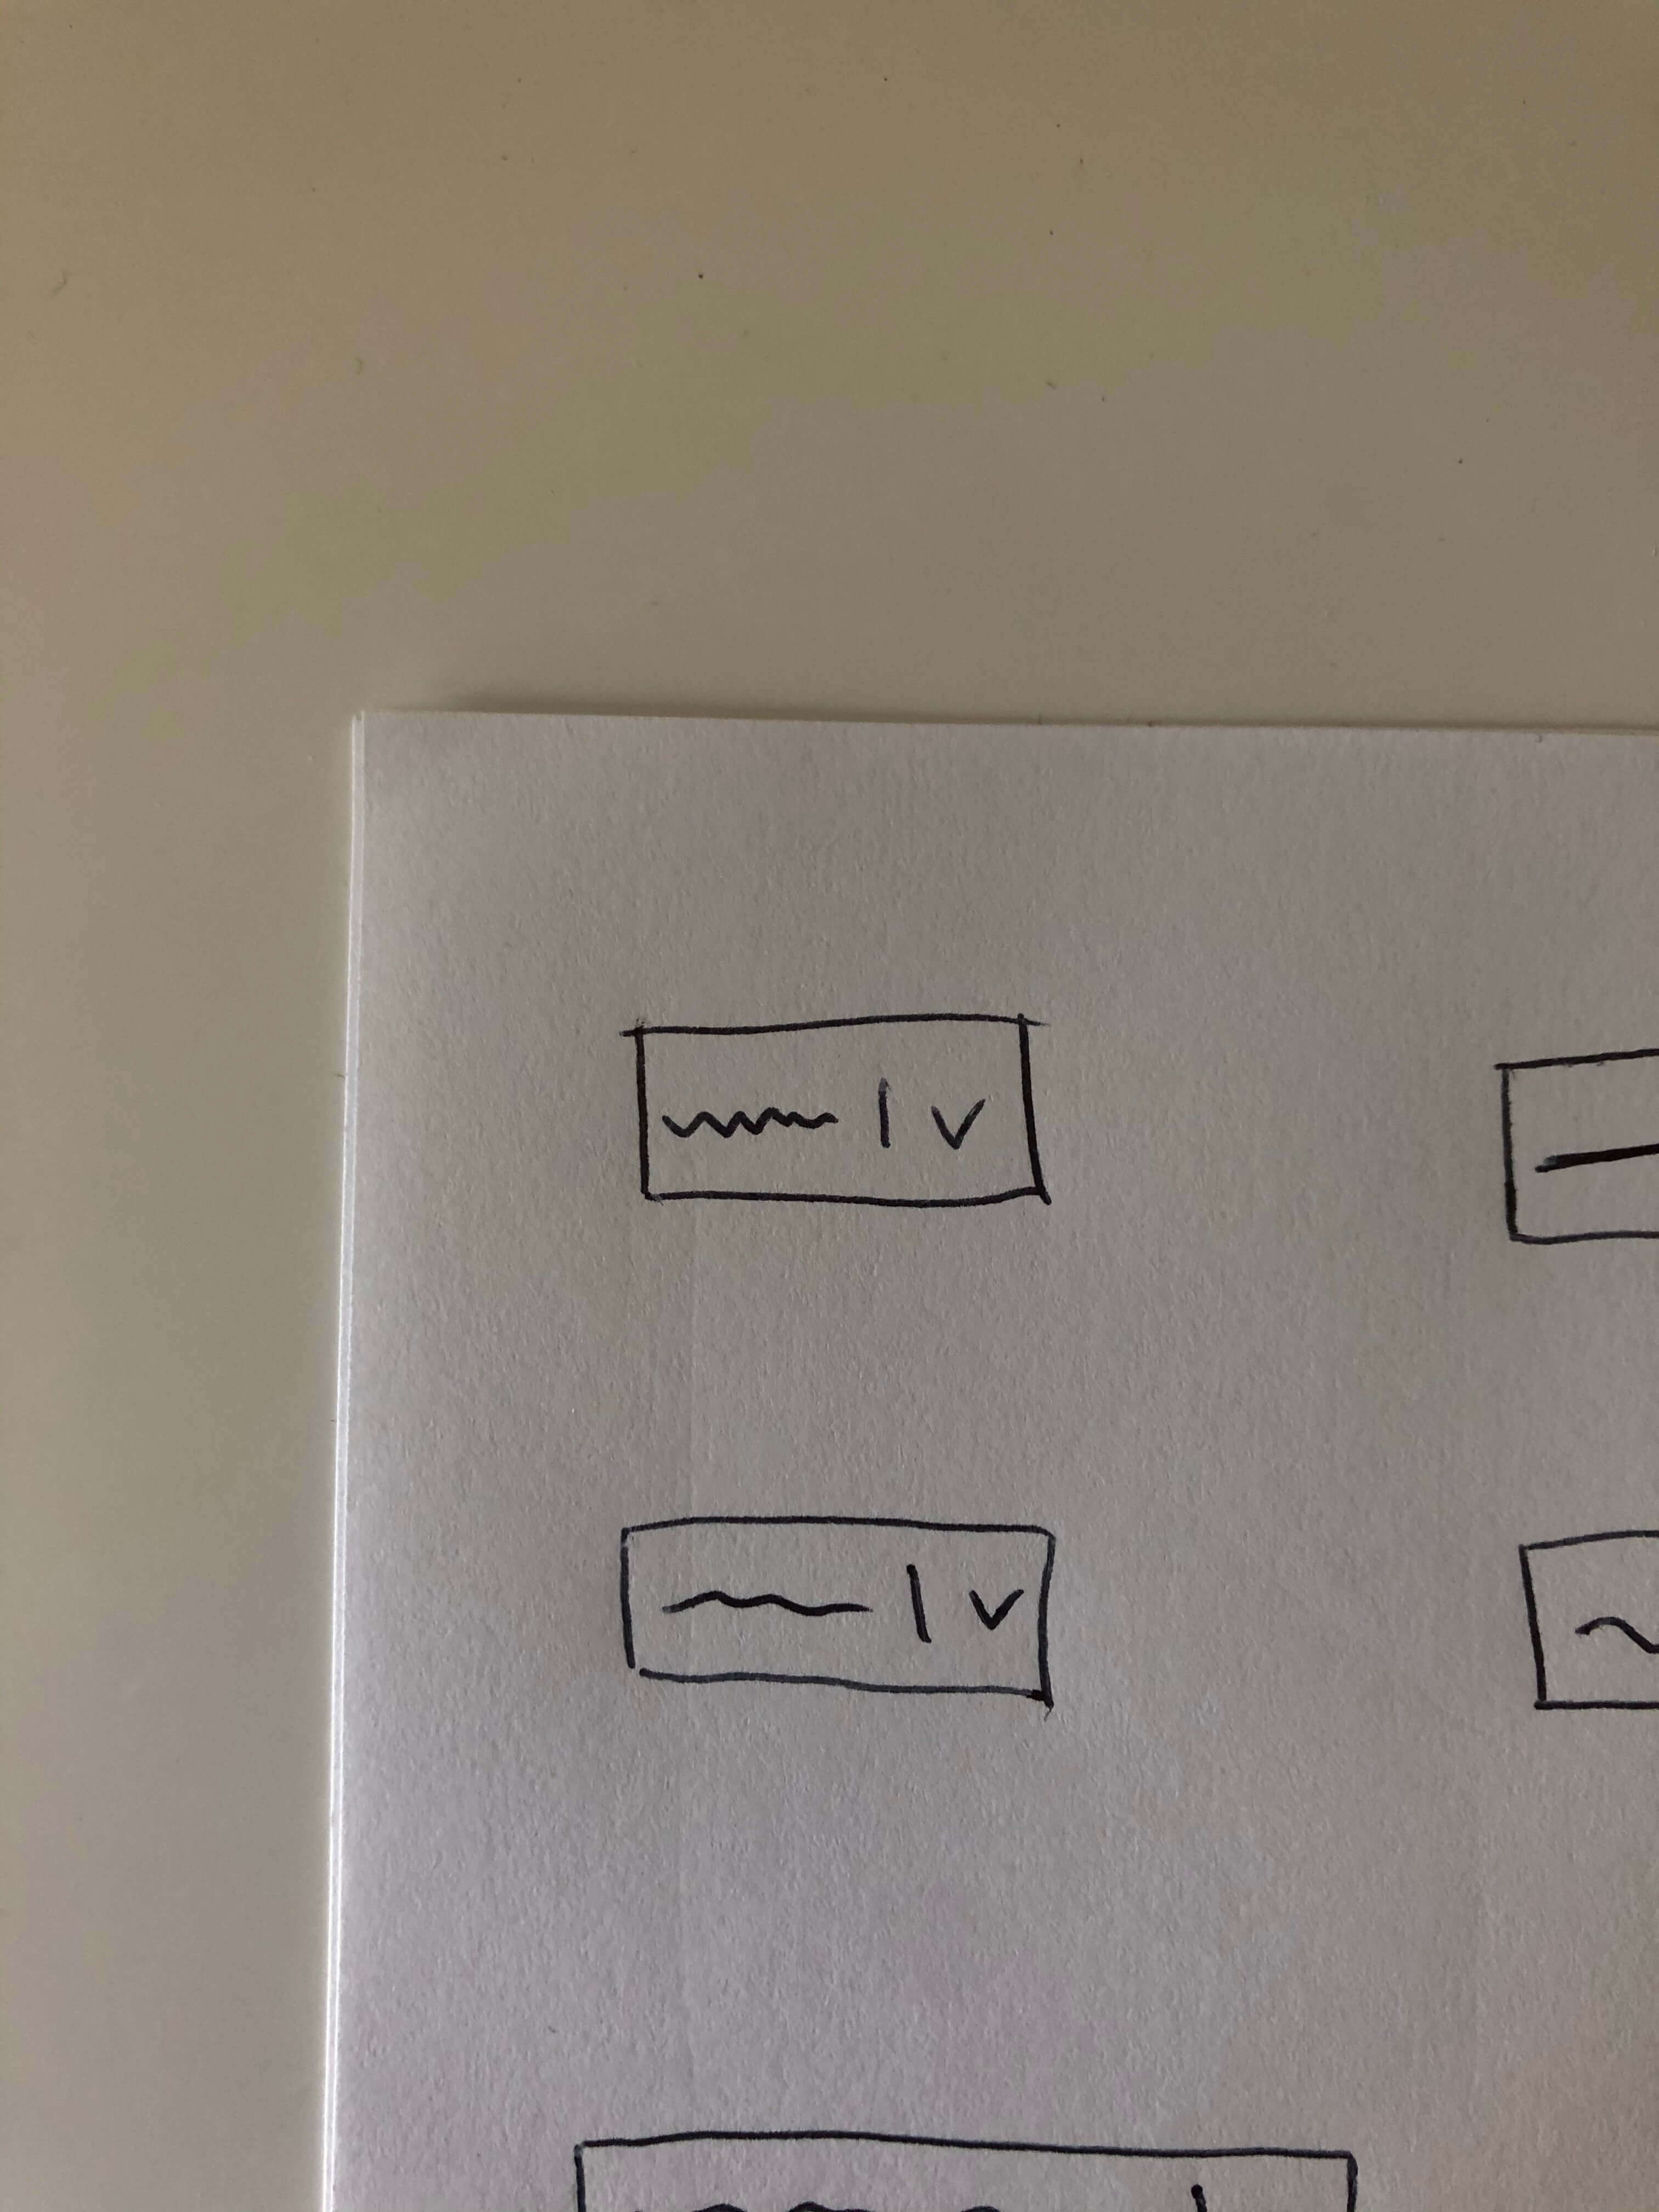split-button: (617, 986, 1091, 1273), (605, 1482, 1096, 1752)
